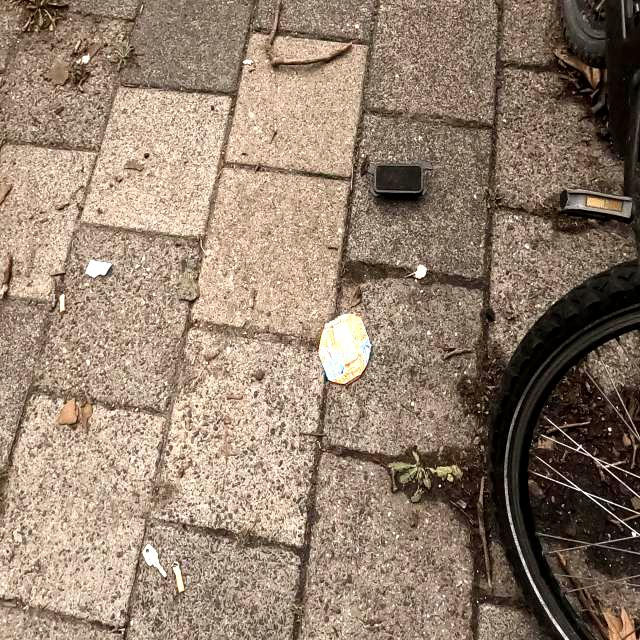Metal: (316, 312, 372, 388)
